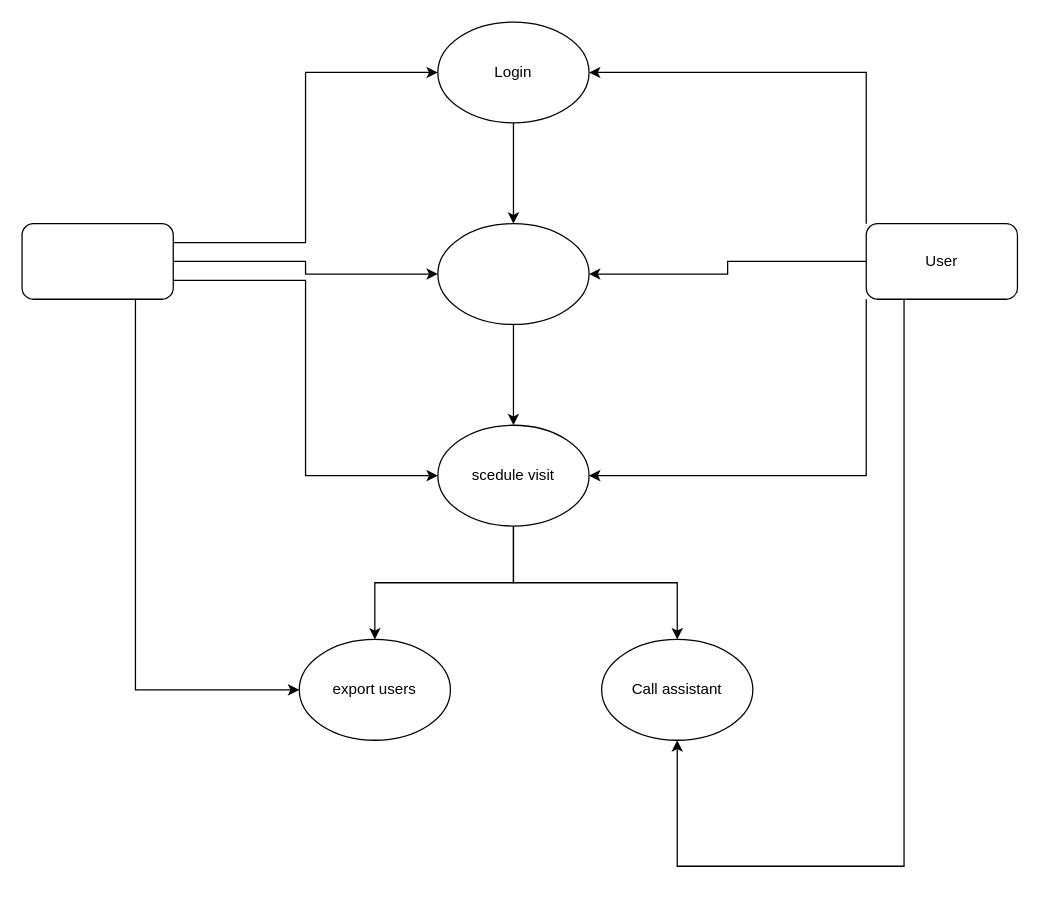
Some shapes in this 1040 by 898 pixel diagram are drawn without their labels. The shapes that lost their labels are listed below. From the top down, each one's centre as x and y in pixels, then its label:
the point at 97,260: Vet
the point at 513,273: make Appointment
